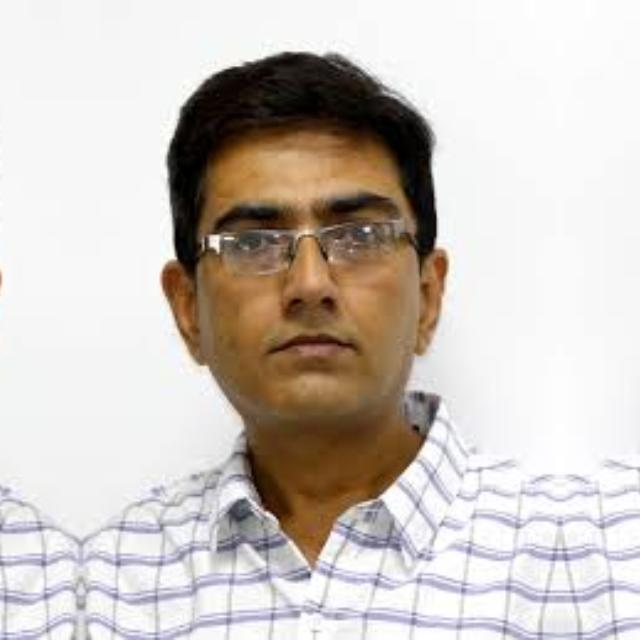person: (122, 7, 560, 640), (559, 7, 640, 640), (0, 7, 38, 640)
